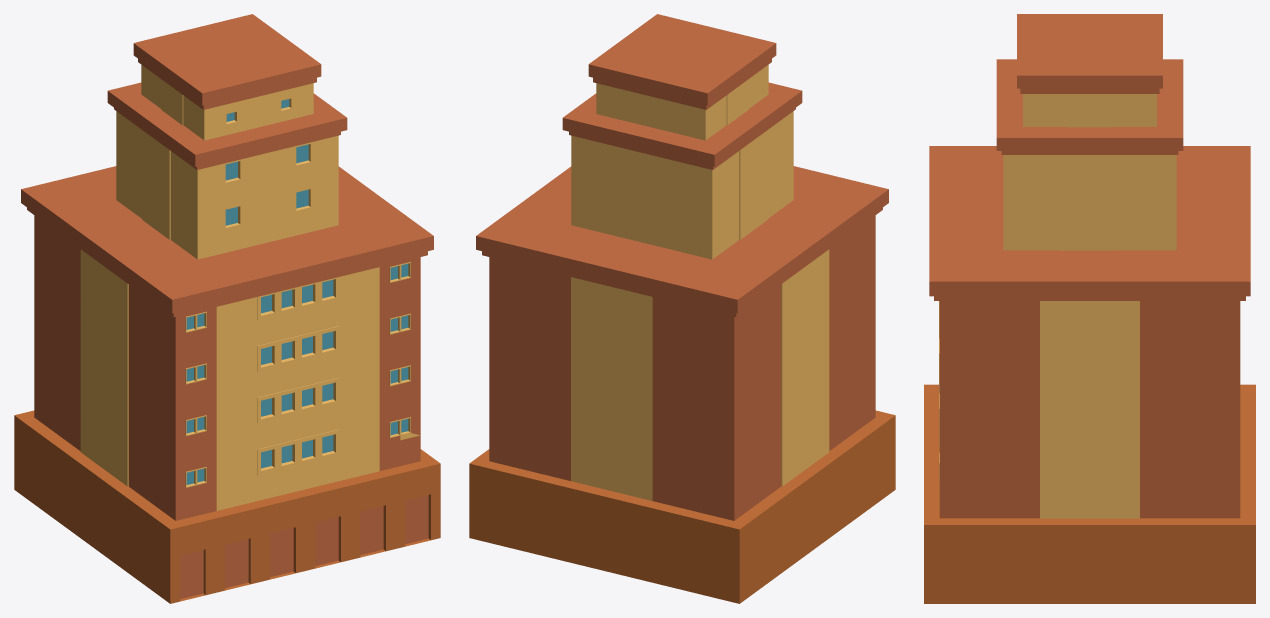
File: building2.fbx
3 renders of one model, left to right at view 1: azimuth 30°, elevation 25°; view 2: azimuth 150°, elevation 25°; view 3: azimuth 270°, elevation 25°, orthographic. The views are drawn at different scales.
Parts seen in each view (by area): view 1: Building2; view 2: Building2; view 3: Building2.
Boxes of the visible parts, x1,y1,x2,y2 form: Building2: (14,14,440,603); Building2: (469,14,895,603); Building2: (924,14,1255,603).
Bounding box in the file's own units: 10.54 × 17.14 × 10.54.
